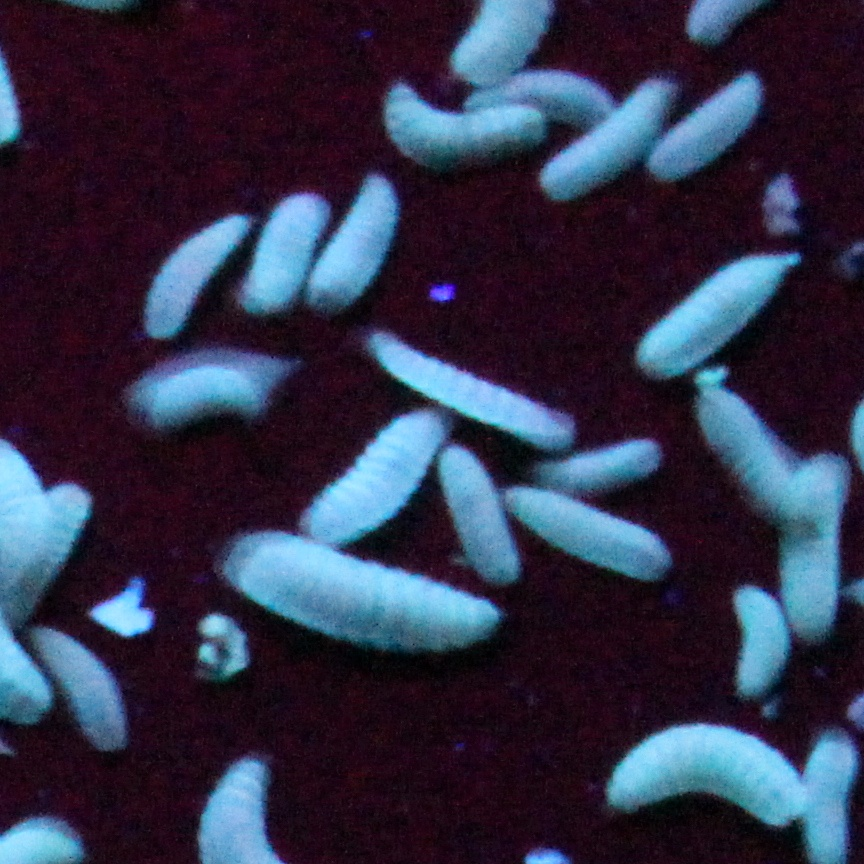larve: (221, 526, 499, 647), (373, 334, 565, 447), (607, 726, 801, 832), (307, 409, 445, 542), (691, 380, 809, 526), (642, 255, 794, 365), (545, 68, 673, 196), (512, 493, 671, 578), (32, 621, 127, 750), (434, 442, 516, 585), (153, 209, 245, 334), (653, 70, 765, 172), (316, 177, 396, 311), (786, 452, 837, 645), (252, 191, 321, 308), (393, 106, 535, 162), (540, 429, 666, 486), (466, 75, 611, 122), (732, 588, 783, 703)
